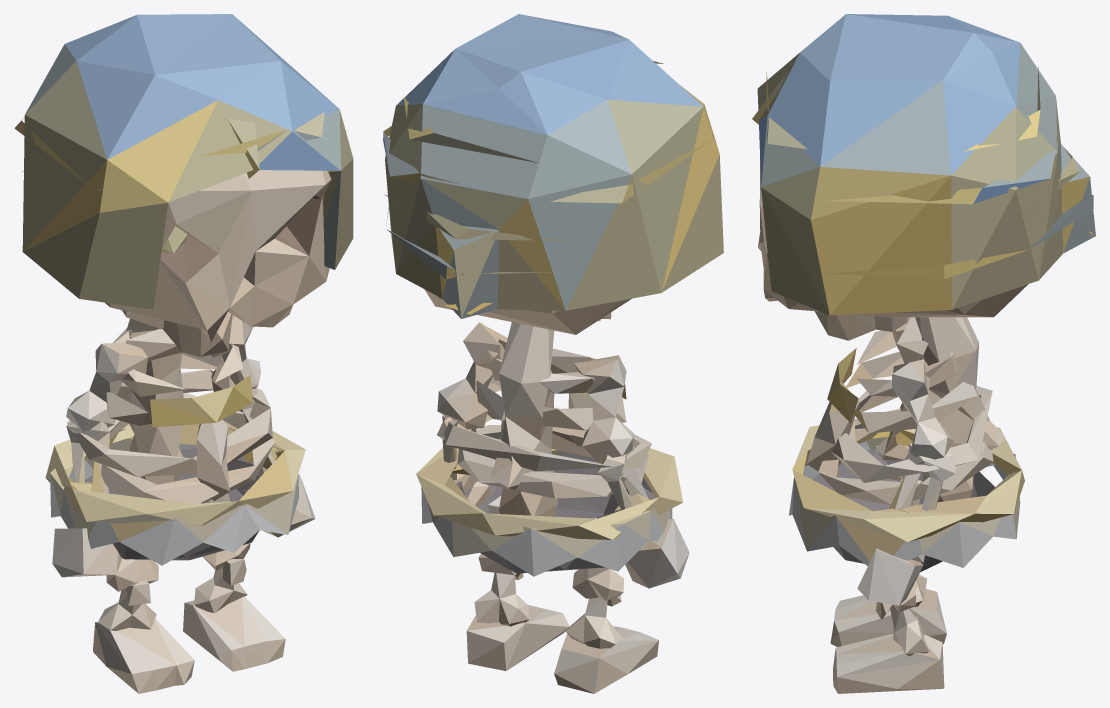
Rendered from sk_Pharaoh.obj.
3 renders of one model, left to right at view 1: azimuth 30°, elevation 25°; view 2: azimuth 150°, elevation 25°; view 3: azimuth 270°, elevation 25°, orthographic.
Visible parts, largest first — view 1: sk_Pharaoh; view 2: sk_Pharaoh; view 3: sk_Pharaoh.
Boxes of the visible parts, <box> form: sk_Pharaoh: <box>14,14,353,693</box>; sk_Pharaoh: <box>383,14,723,693</box>; sk_Pharaoh: <box>752,14,1095,693</box>.
Size of the model in its own units: 6.09 by 13 by 6.5.
